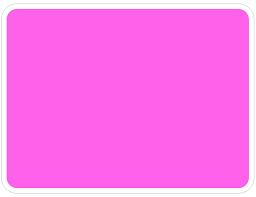pink_zone: (0, 3, 252, 194)
